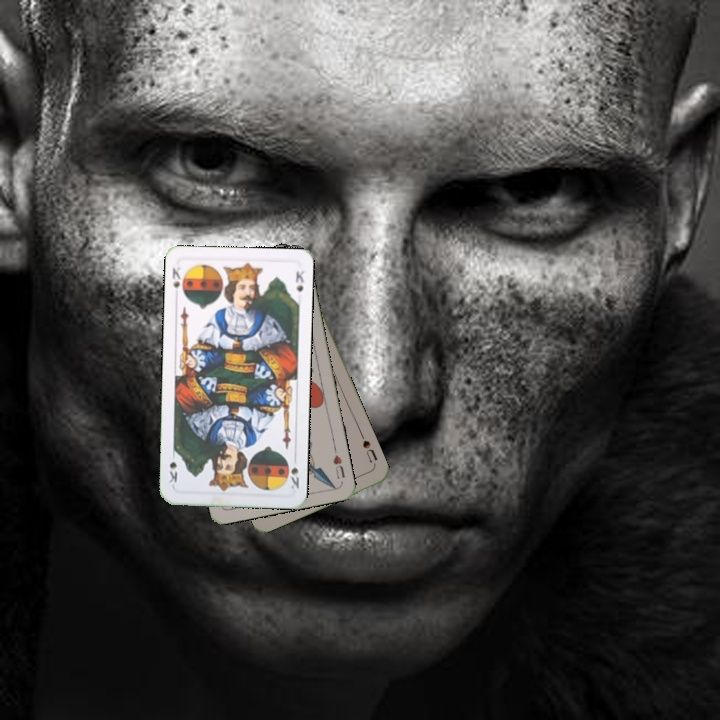HU: (329, 444, 348, 481)
SK: (168, 263, 188, 301), (286, 463, 301, 491)
SU: (359, 436, 380, 469)
